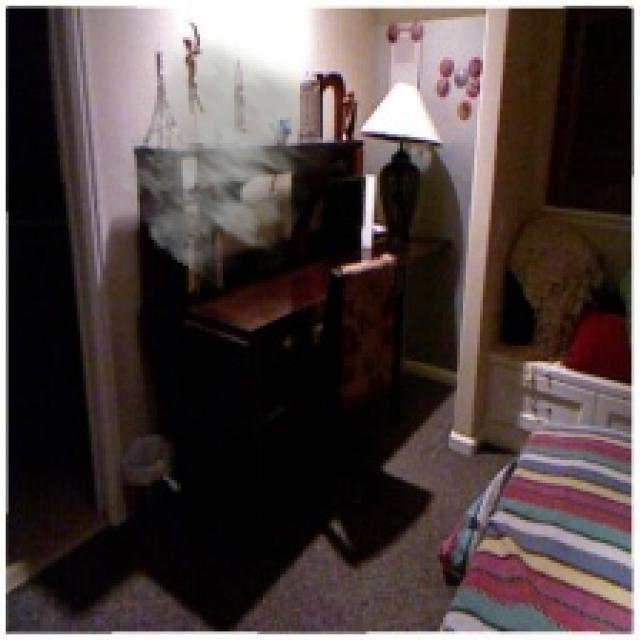smoke: (106, 31, 346, 286)
